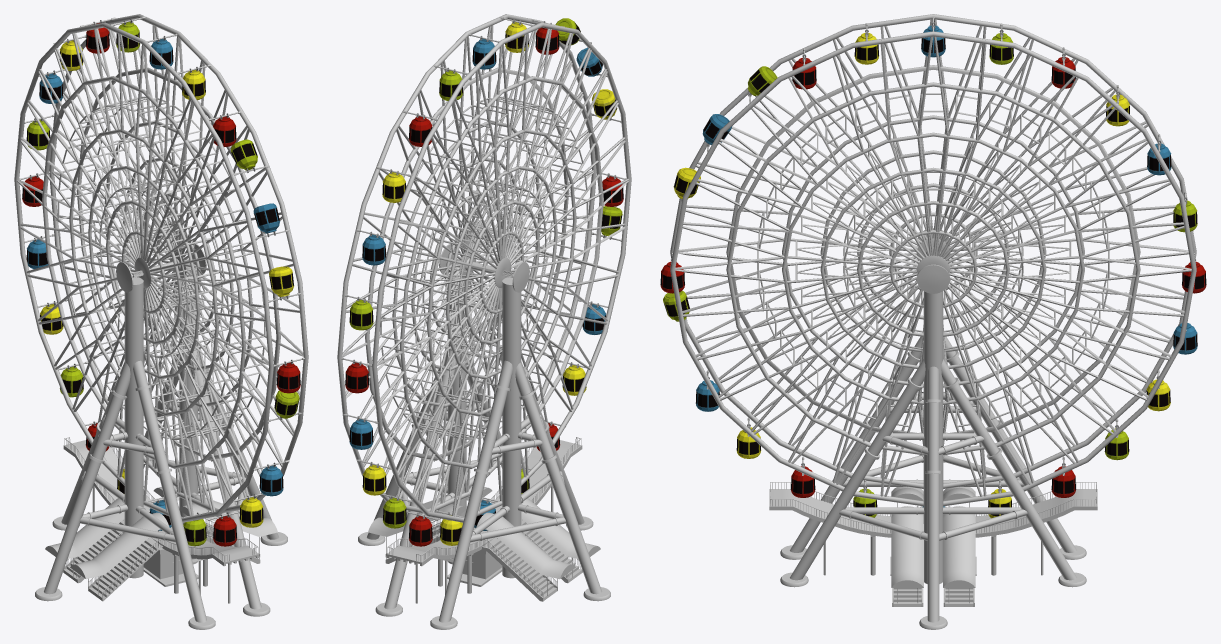
File: FerrisWheel.fbx
The picture shows the model from 3 angles, left to right: view 1: azimuth 30°, elevation 25°; view 2: azimuth 150°, elevation 25°; view 3: azimuth 270°, elevation 25°; orthographic projection. The views are drawn at different scales.
Parts seen in each view (by area): view 1: Wheel1, Base_FerrisWheel, cabin_ferris10, cabin_ferris12, cabin_ferris15, cabin_ferris11, cabin_ferris17, cabin_ferris13, cabin_ferris16, cabin_ferris9, cabin_ferris14, cabin_ferris8 (+11 smaller); view 2: Wheel1, Base_FerrisWheel, cabin_ferris3, cabin_ferris23, cabin_ferris24, cabin_ferris2, cabin_ferris21, cabin_ferris22, cabin_ferris1, cabin_ferris25, cabin_ferris5, cabin_ferris6 (+10 smaller); view 3: Wheel1, Base_FerrisWheel.
Part boxes in pixels (left/top/right/bottom): Wheel1: left=14, top=14, right=308, bottom=522; Base_FerrisWheel: left=35, top=264, right=287, bottom=629; cabin_ferris10: left=230, top=139, right=268, bottom=175; cabin_ferris12: left=268, top=266, right=300, bottom=302; cabin_ferris15: left=253, top=460, right=289, bottom=496; cabin_ferris11: left=253, top=203, right=289, bottom=239; cabin_ferris17: left=207, top=511, right=239, bottom=546; cabin_ferris13: left=274, top=357, right=304, bottom=393; cabin_ferris16: left=233, top=493, right=263, bottom=527; cabin_ferris9: left=207, top=111, right=242, bottom=146; cabin_ferris14: left=267, top=390, right=302, bottom=422; cabin_ferris8: left=176, top=64, right=211, bottom=100; Wheel1: left=337, top=14, right=631, bottom=522; Base_FerrisWheel: left=358, top=264, right=610, bottom=629; cabin_ferris3: left=356, top=229, right=391, bottom=265; cabin_ferris23: left=343, top=414, right=378, bottom=449; cabin_ferris24: left=356, top=459, right=391, bottom=495; cabin_ferris2: left=343, top=294, right=378, bottom=330; cabin_ferris21: left=406, top=511, right=438, bottom=546; cabin_ferris22: left=380, top=493, right=412, bottom=528; cabin_ferris1: left=341, top=357, right=371, bottom=393; cabin_ferris25: left=376, top=166, right=412, bottom=202; cabin_ferris5: left=403, top=110, right=438, bottom=146; cabin_ferris6: left=433, top=65, right=468, bottom=100; Wheel1: left=670, top=14, right=1196, bottom=506; Base_FerrisWheel: left=769, top=291, right=1097, bottom=629.
Bounding box in the file's own units: 0.5173 × 1.06 × 0.9573.
